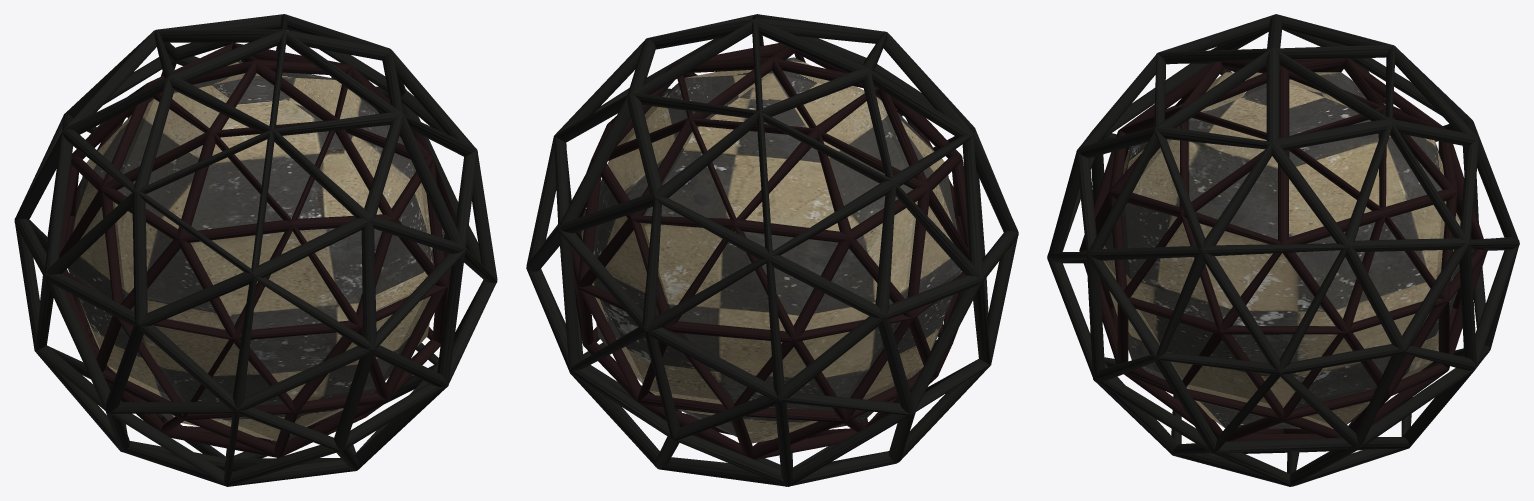
File: ball.obj
The picture shows the model from 3 angles, left to right: view 1: azimuth 30°, elevation 25°; view 2: azimuth 150°, elevation 25°; view 3: azimuth 270°, elevation 25°; orthographic projection. The views are drawn at different scales.
Visible parts, largest first — view 1: Icosphere.004, Icosphere, Icosphere.002; view 2: Icosphere.004, Icosphere, Icosphere.002; view 3: Icosphere.004, Icosphere, Icosphere.002.
Part boxes in pixels (left/top/right/bottom): Icosphere.004: left=14, top=14, right=497, bottom=486; Icosphere: left=67, top=61, right=444, bottom=440; Icosphere.002: left=59, top=43, right=456, bottom=457; Icosphere.004: left=526, top=14, right=1018, bottom=486; Icosphere: left=581, top=57, right=962, bottom=443; Icosphere.002: left=572, top=43, right=969, bottom=459; Icosphere.004: left=1047, top=14, right=1519, bottom=486; Icosphere: left=1102, top=72, right=1460, bottom=428; Icosphere.002: left=1079, top=58, right=1487, bottom=441.
Bounding box in the file's own units: 1.79 × 1.79 × 1.8.
3 materials, 1 textured.
